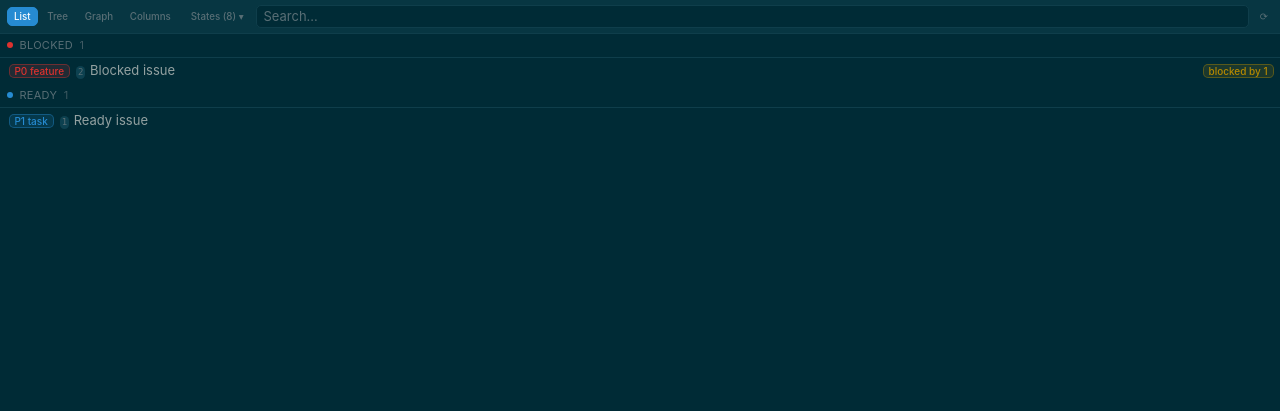
it: BeadsPanel filter › shows empty state when all groups are filtered out
Type "xyzzy-no-match" into the field with placeholder "Search…" at (753, 16), box left=256, top=5, right=1249, bottom=28
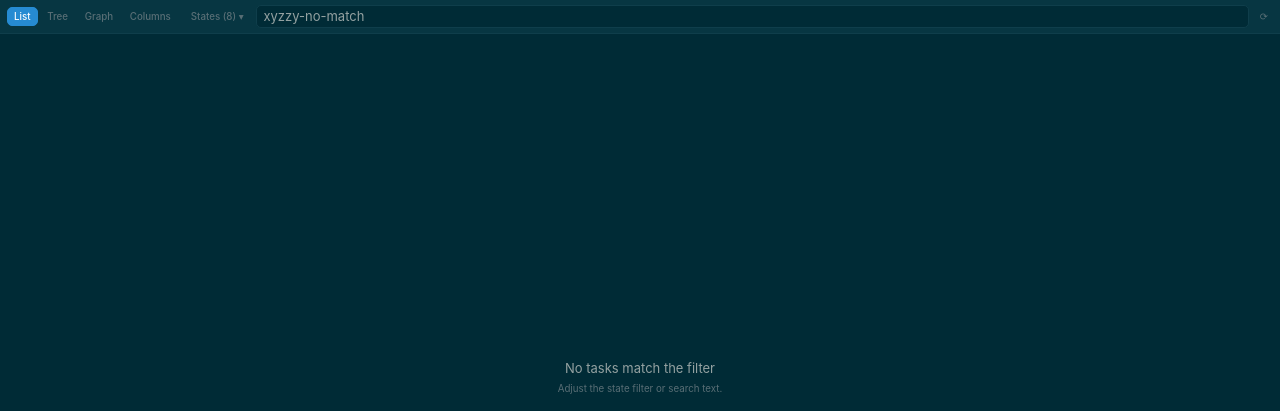
Expected: the text "No tasks match the filter" is shown, left=565, top=359, right=715, bottom=378
